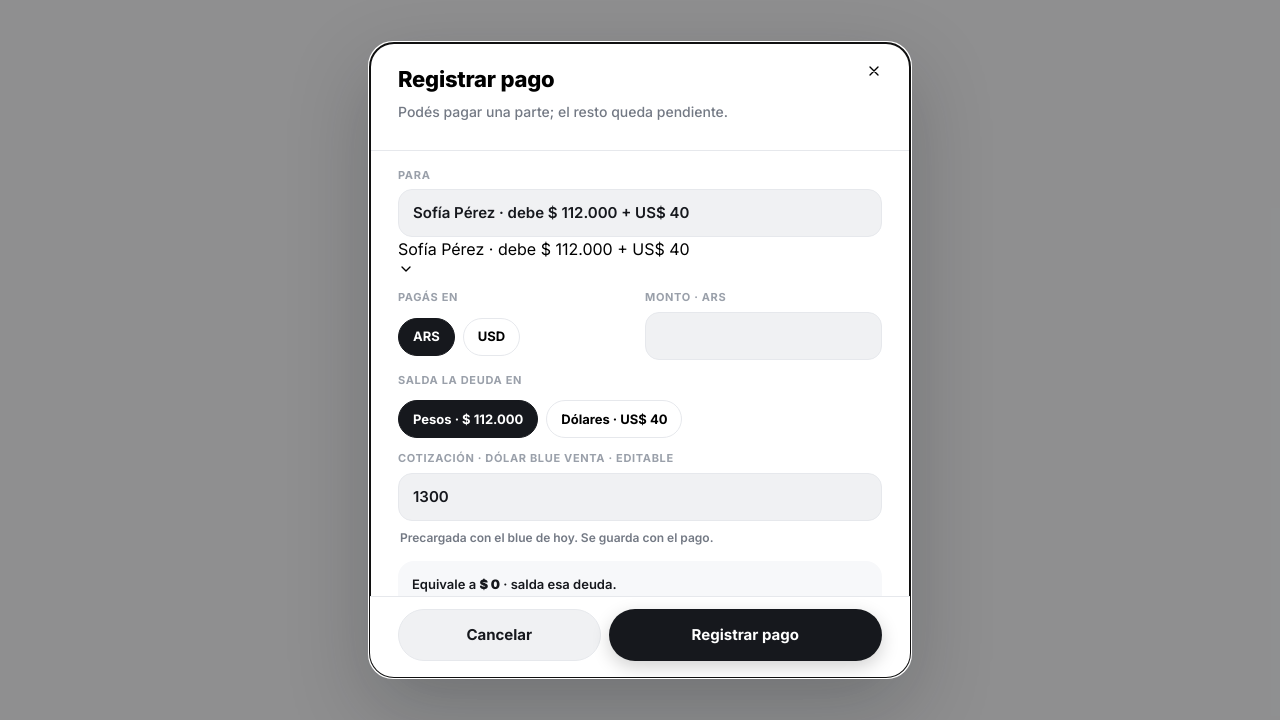
Test: Comisiones › previews cross-currency settlement and preserves errors in the payment sheet
Click the button "USD": (492,337) [463,318,520,356]
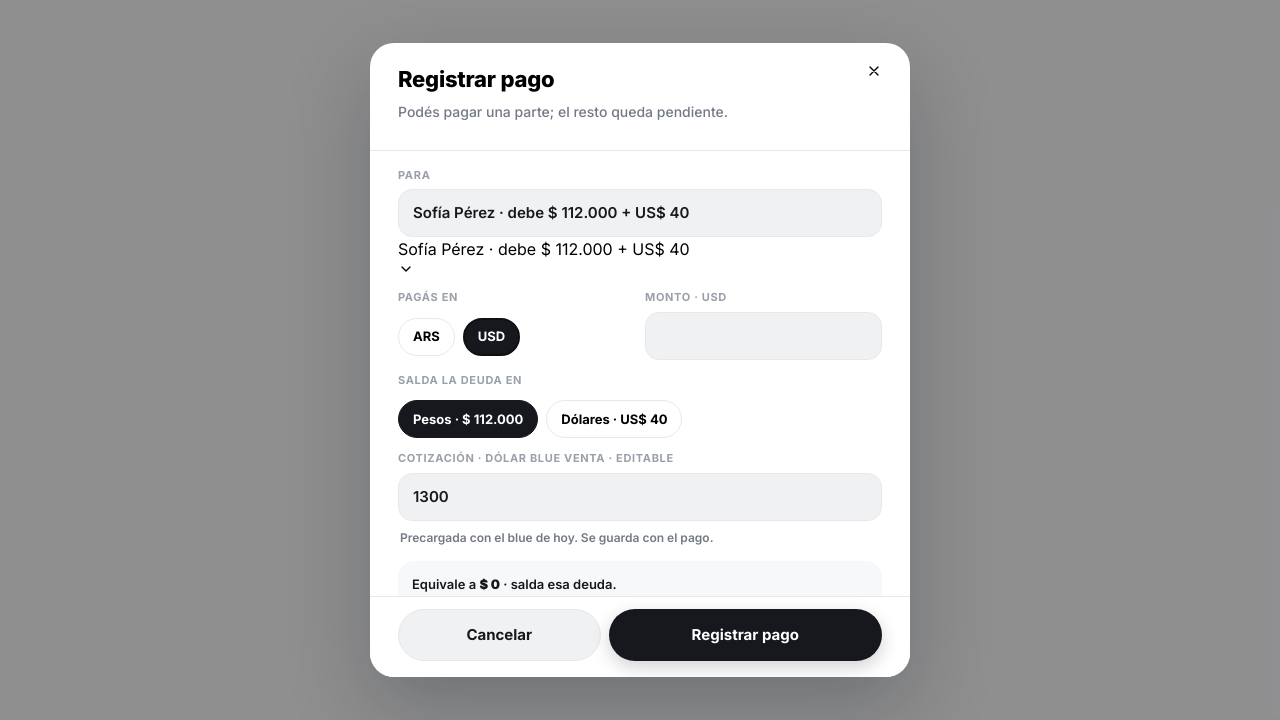
In the number field named "Monto del pago": (764,336) [645,312,882,360], type "50"
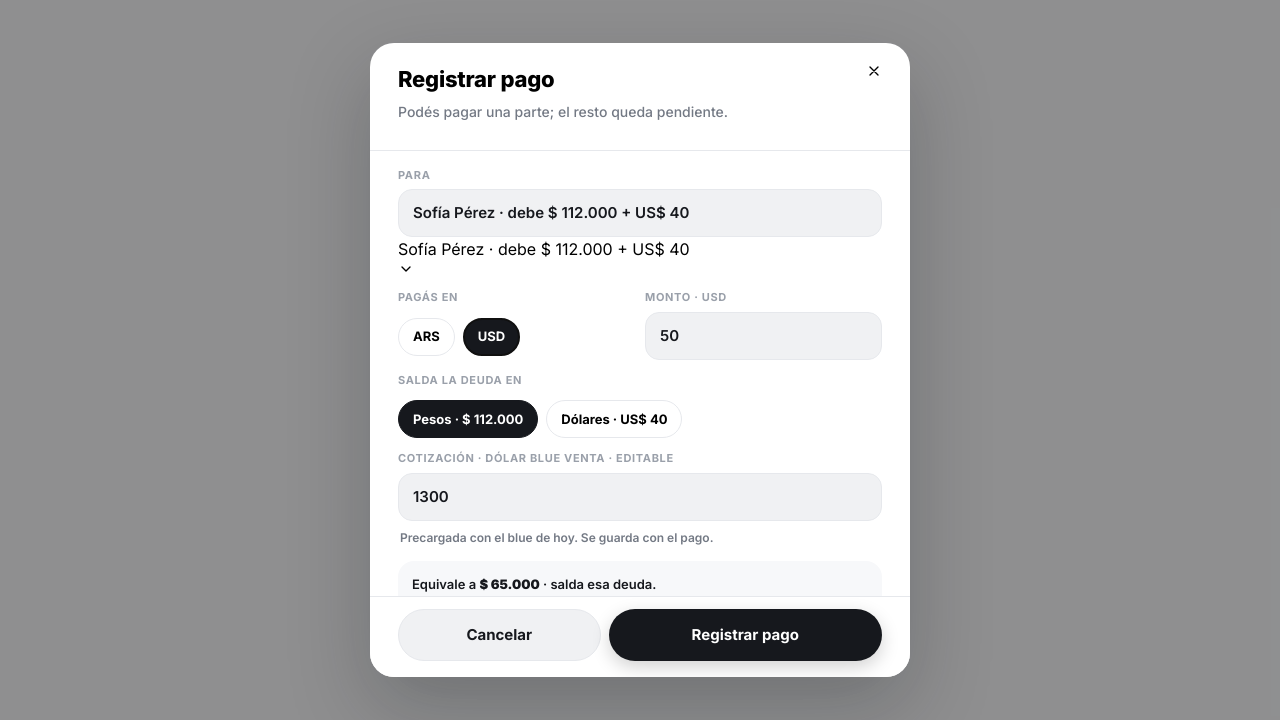
Expected: the number field named "Cotización del pago" holds "1300", [398,473,882,521]
Click the button "Registrar pago": (745,635) [608,609,882,661]
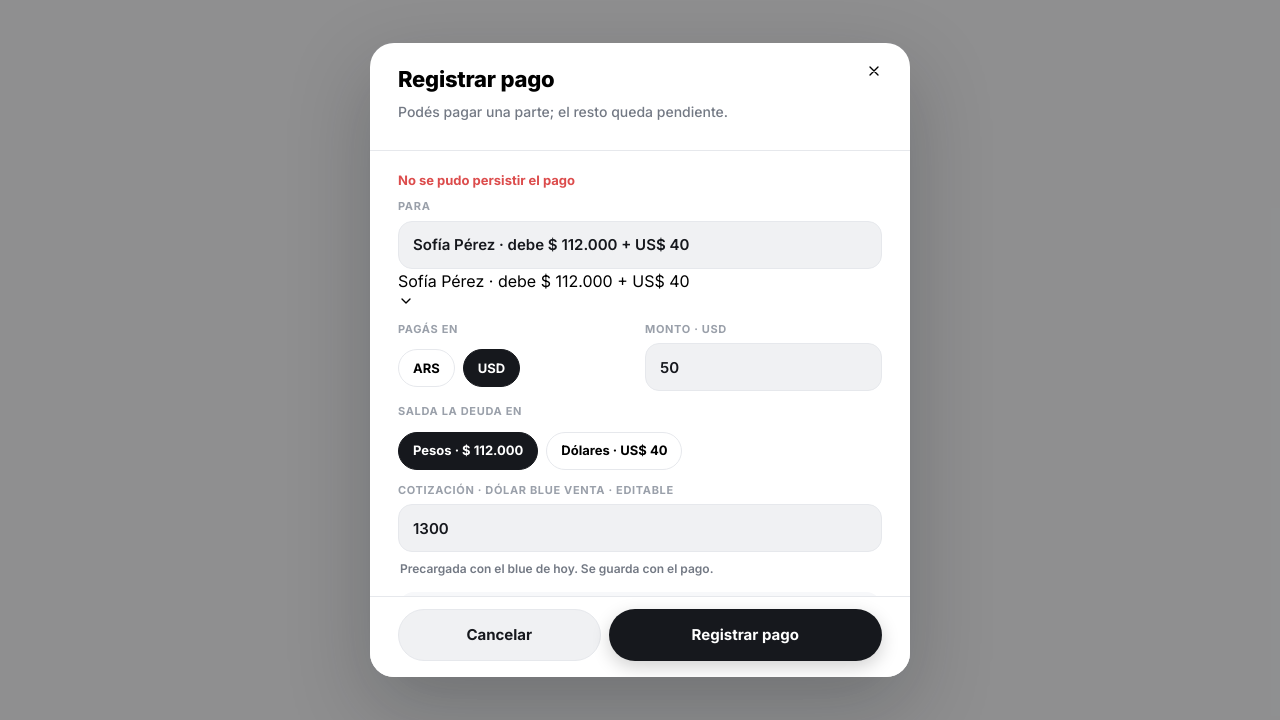
Expected: the dialog "Registrar pago" is shown, [370,43,910,677]
Expected: the message shows "No se pudo persistir", [398,172,575,188]
